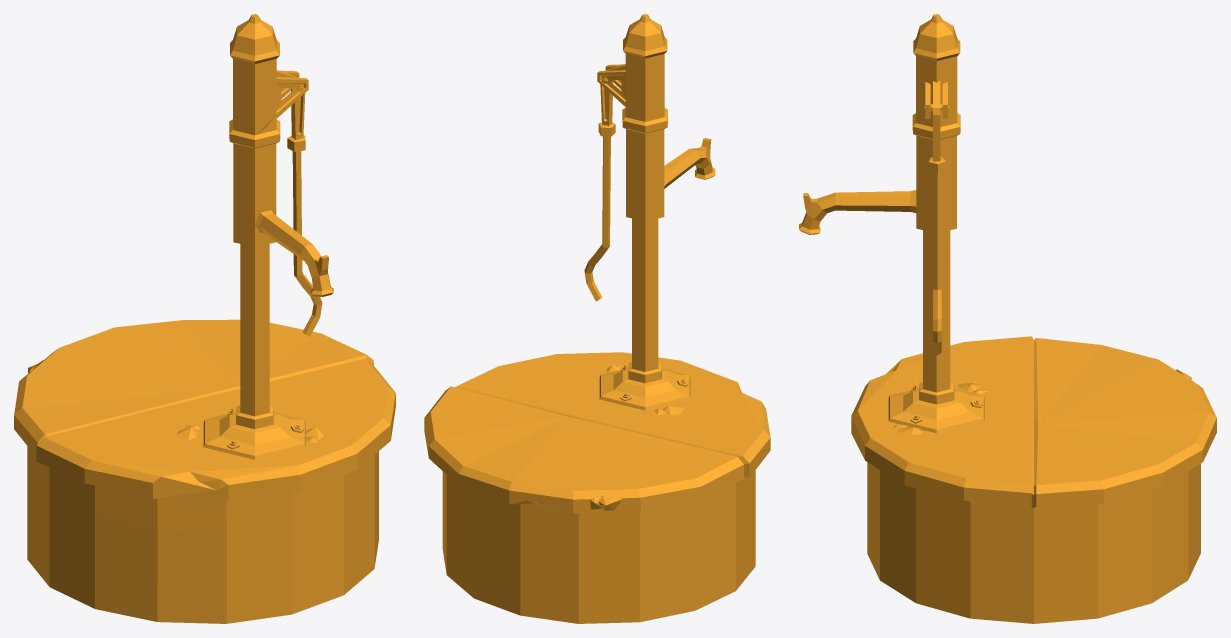
Rendered from SM_Water_Well_B_Farm.fbx.
3 views of the same model, side by side, from view 1: azimuth 30°, elevation 25°; view 2: azimuth 150°, elevation 25°; view 3: azimuth 270°, elevation 25° (orthographic). The views are drawn at different scales.
Visible parts, largest first — view 1: water-well-b-farm-base, water-well-b-farm-handle; view 2: water-well-b-farm-base, water-well-b-farm-handle; view 3: water-well-b-farm-base, water-well-b-farm-handle.
Part boxes in pixels (x1,y1,x2,y2): water-well-b-farm-base: (14,14,395,623); water-well-b-farm-handle: (276,70,322,336); water-well-b-farm-base: (424,14,770,623); water-well-b-farm-handle: (584,64,625,301); water-well-b-farm-base: (799,14,1216,623); water-well-b-farm-handle: (924,81,948,355).
Size of the model in its own units: 1.01 by 1.62 by 1.14.
